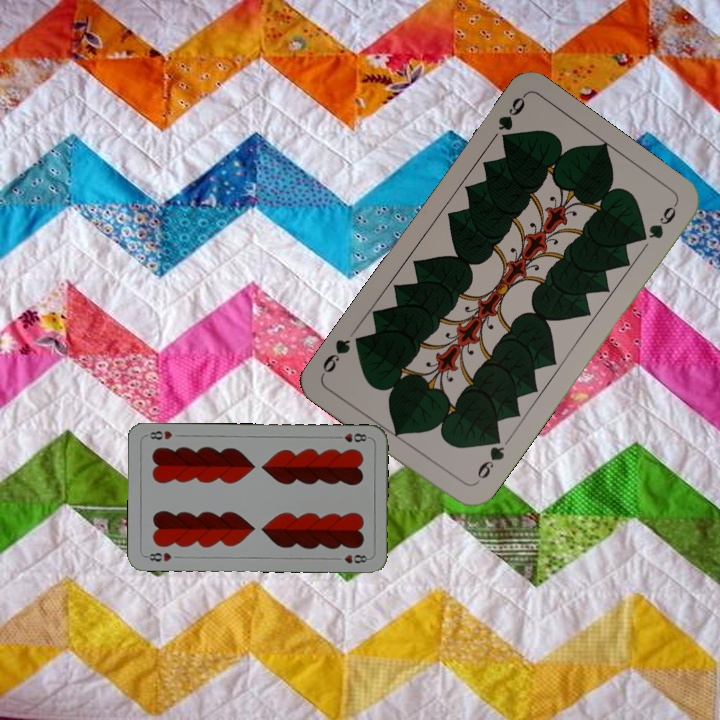G9: (493, 91, 528, 149), (473, 431, 508, 482)
H8: (331, 429, 372, 445), (142, 548, 174, 564)
